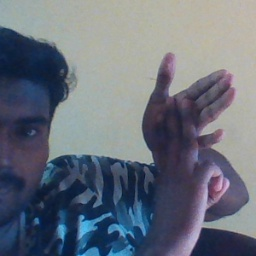M: (135, 51, 244, 199)
